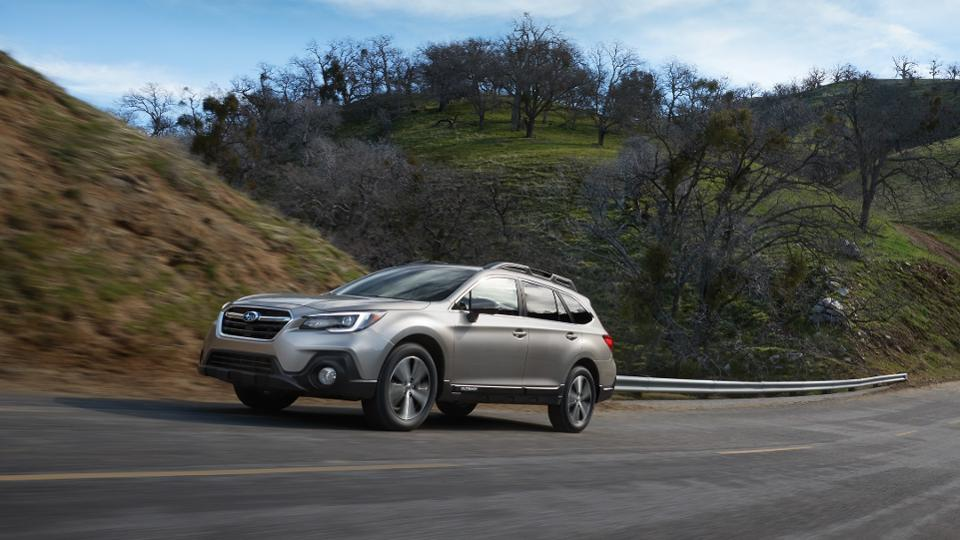car: (198, 257, 631, 437)
